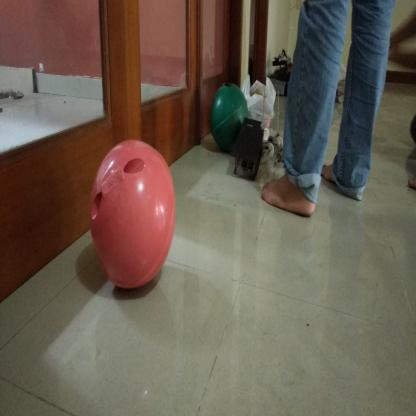green_buoy: (210, 82, 250, 149)
red_buoy: (86, 137, 179, 290)
